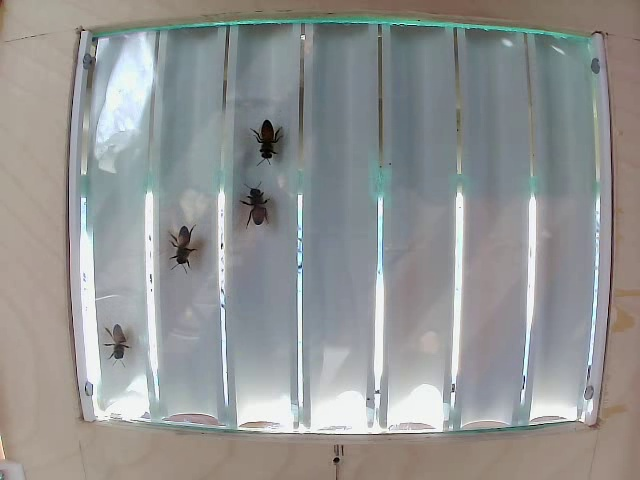bee: (252, 110, 287, 167), (239, 177, 273, 233), (97, 318, 136, 366), (176, 213, 198, 267)
